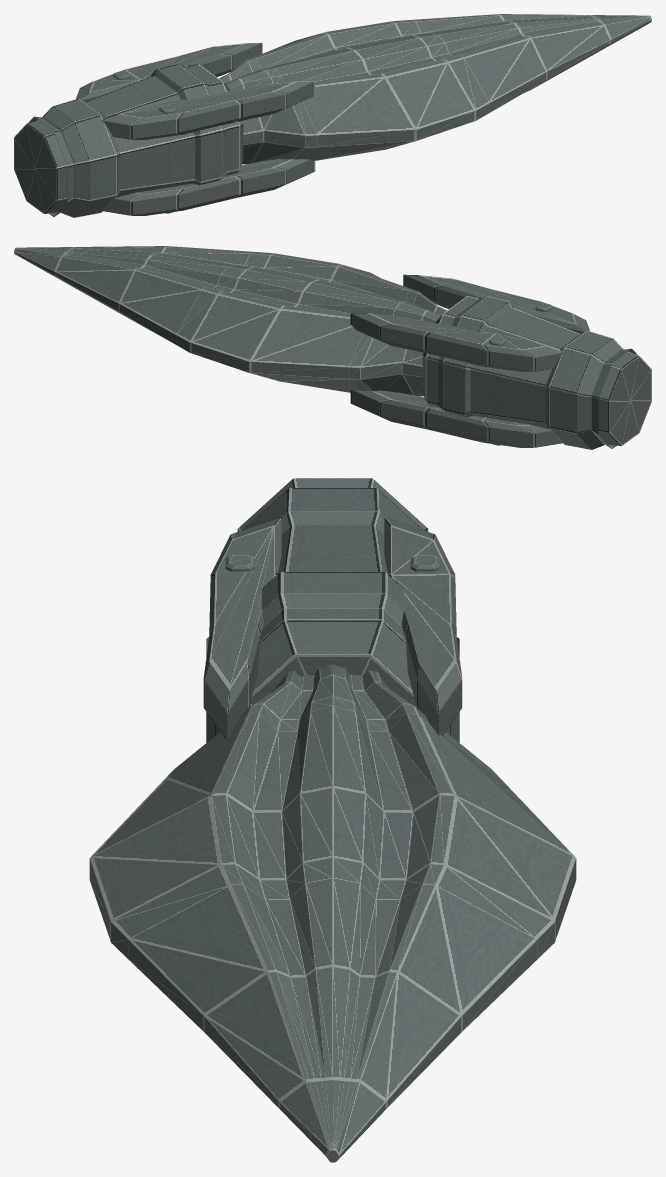
File: bench_xuantie_spear_1.obj
3 renders of one model, top to bottom at view 1: azimuth 30°, elevation 25°; view 2: azimuth 150°, elevation 25°; view 3: azimuth 270°, elevation 25°, orthographic. The views are drawn at different scales.
Parts seen in each view (by area): view 1: geometry; view 2: geometry; view 3: geometry.
Part boxes in pixels (bbox=[...]): geometry: bbox=[14, 14, 651, 217]; geometry: bbox=[14, 246, 651, 449]; geometry: bbox=[89, 478, 576, 1162].
Size of the model in its own units: 0.75 by 0.1336 by 0.2568.
